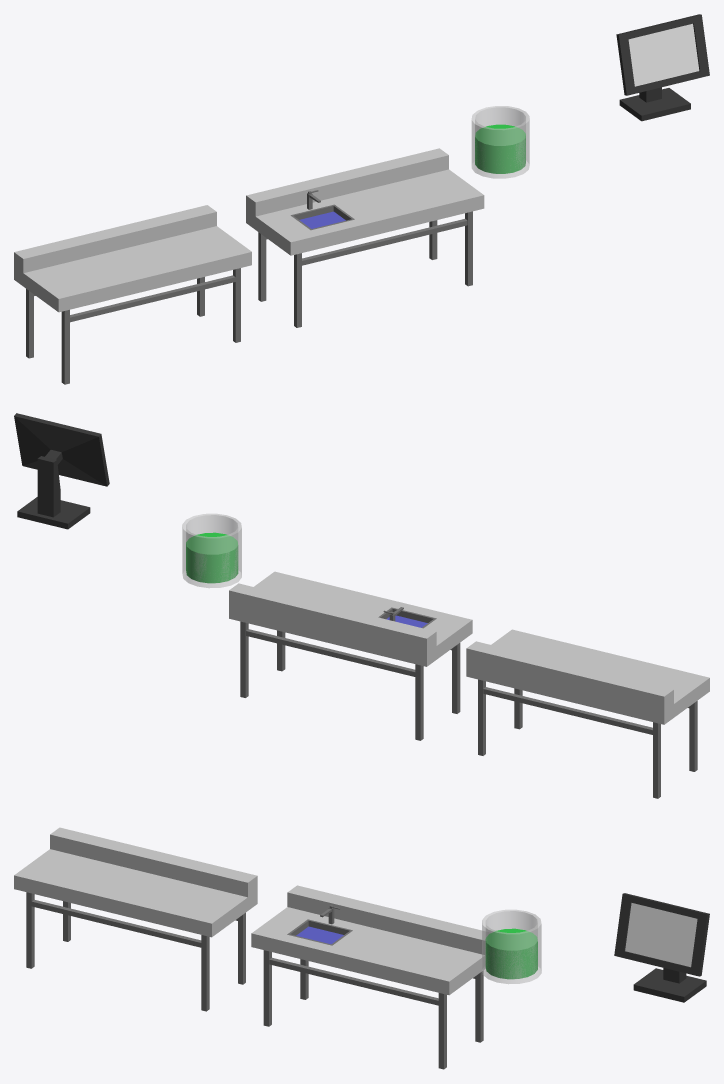
Rendered from props1.fbx.
3 views of the same model, one above another, from view 1: azimuth 30°, elevation 25°; view 2: azimuth 150°, elevation 25°; view 3: azimuth 330°, elevation 25° (orthographic). The views are drawn at different scales.
Parts seen in each view (by area): view 1: table1, table2, ordi, cuve; view 2: table2, table1, ordi, cuve; view 3: table1, table2, ordi, cuve.
Boxes of the visible parts, box(x1,y1,x2,y2) form: table1: box(14, 205, 251, 384); table2: box(246, 148, 484, 327); ordi: box(616, 14, 709, 121); cuve: box(471, 106, 529, 178); table2: box(229, 571, 472, 740); table1: box(466, 629, 709, 798); ordi: box(14, 413, 109, 529); cuve: box(182, 513, 241, 588); table1: box(14, 827, 257, 1011); table2: box(251, 885, 489, 1069); ordi: box(614, 893, 709, 1002); cuve: box(482, 909, 541, 984).
Bounding box in the file's own units: 1707 × 495 × 200.
